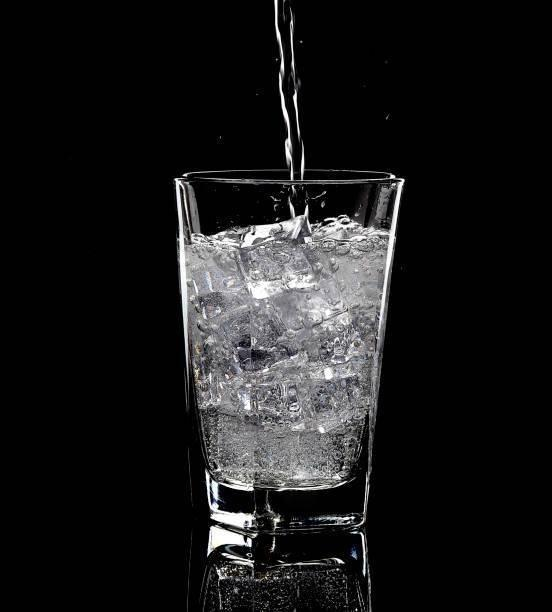glass-normal: (171, 165, 407, 529)
